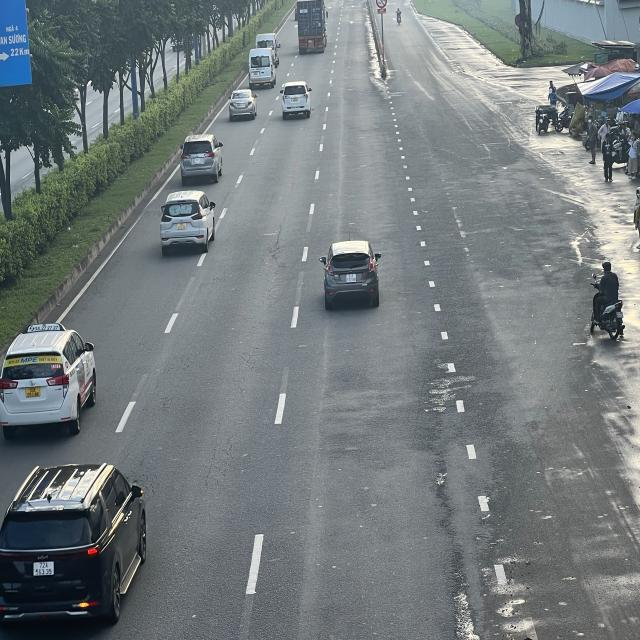car: (0, 466, 143, 630), (1, 321, 99, 434), (321, 242, 382, 310), (160, 190, 218, 249), (180, 132, 224, 182), (280, 82, 312, 119), (230, 89, 258, 120)
container: (296, 1, 328, 54)
van: (249, 48, 281, 88)
